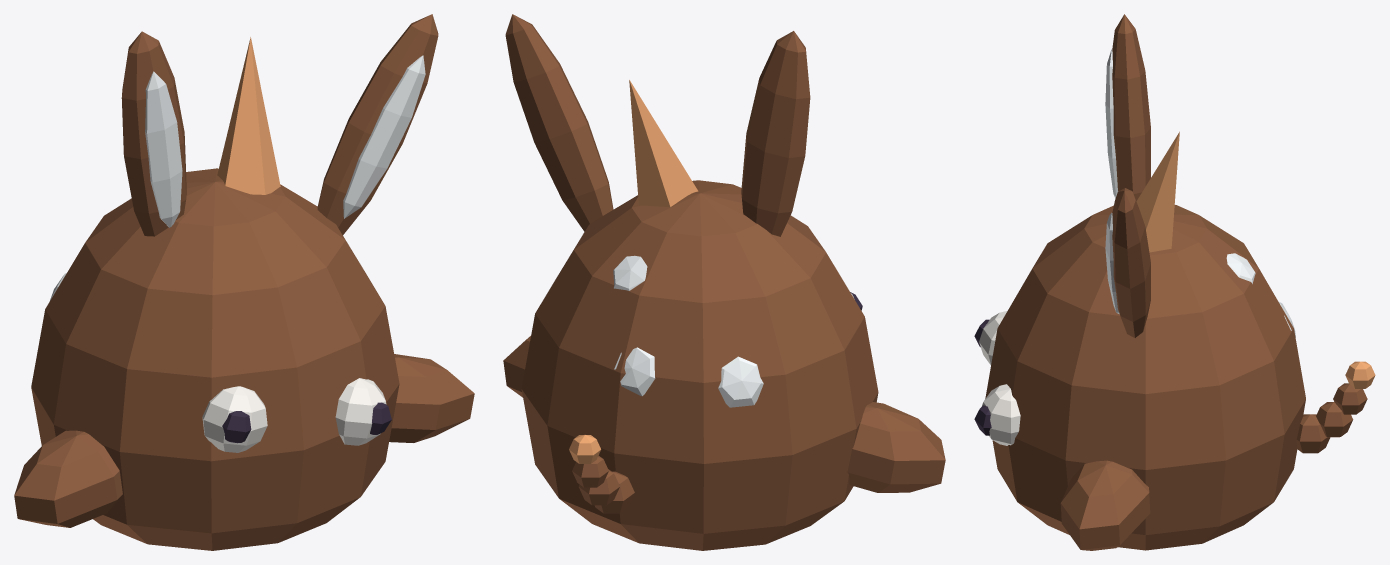
Rendered from blob-wildwest-1.glb.
The picture shows the model from 3 angles, left to right: view 1: azimuth 30°, elevation 25°; view 2: azimuth 150°, elevation 25°; view 3: azimuth 270°, elevation 25°; orthographic projection. The views are drawn at different scales.
Parts seen in each view (by area): view 1: blob-wildwest-1; view 2: blob-wildwest-1; view 3: blob-wildwest-1.
Part boxes in pixels (left/top/right/bottom): blob-wildwest-1: left=14, top=14, right=474, bottom=550; blob-wildwest-1: left=503, top=14, right=945, bottom=550; blob-wildwest-1: left=974, top=14, right=1375, bottom=550.
Bounding box in the file's own units: 0.8559 × 0.9 × 0.7296.
